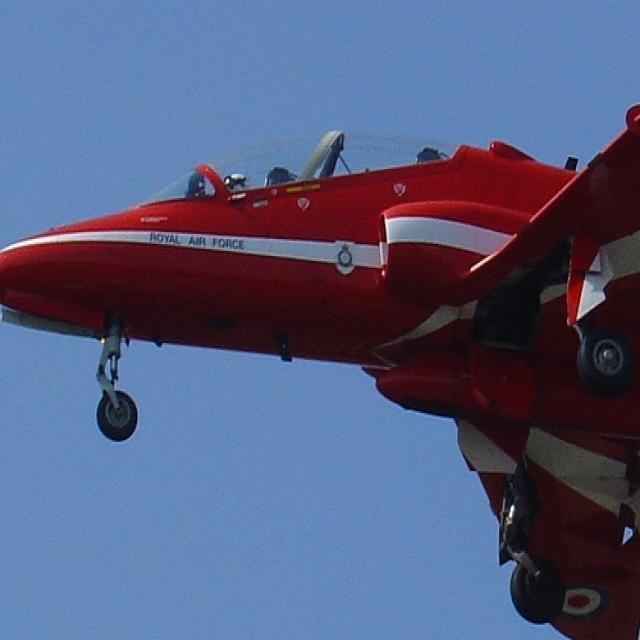aeroplane: (0, 102, 639, 638)
